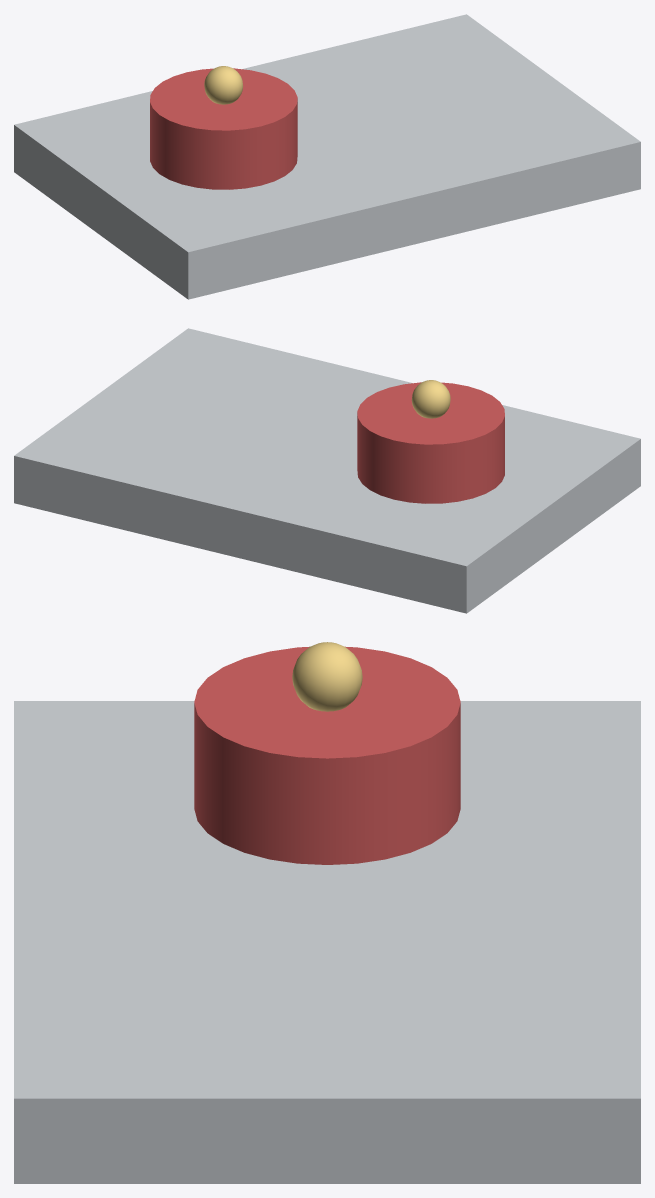
Rendered from reference-part.gltf.
3 views of the same model, one above another, from view 1: azimuth 30°, elevation 25°; view 2: azimuth 150°, elevation 25°; view 3: azimuth 270°, elevation 25° (orthographic). The views are drawn at different scales.
Parts seen in each view (by area): view 1: Plate, Boss, Knob; view 2: Plate, Boss, Knob; view 3: Plate, Boss, Knob.
Part boxes in pixels (bbox=[...]): Plate: bbox=[14, 14, 640, 299]; Boss: bbox=[150, 68, 297, 189]; Knob: bbox=[204, 66, 243, 104]; Plate: bbox=[14, 328, 640, 613]; Boss: bbox=[357, 382, 504, 503]; Knob: bbox=[411, 380, 450, 418]; Plate: bbox=[14, 701, 640, 1183]; Boss: bbox=[194, 646, 460, 864]; Knob: bbox=[292, 642, 362, 711].
Bounding box in the file's own units: 2.4 × 0.7 × 1.6.
